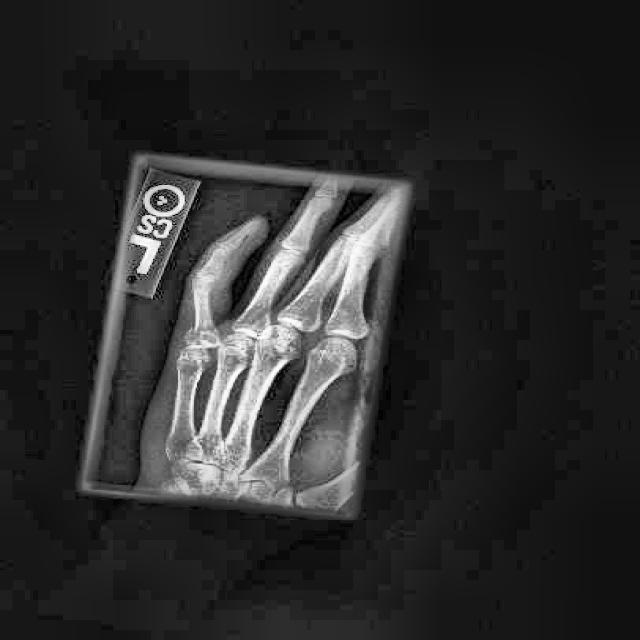fingers positive: (173, 313, 222, 357)
